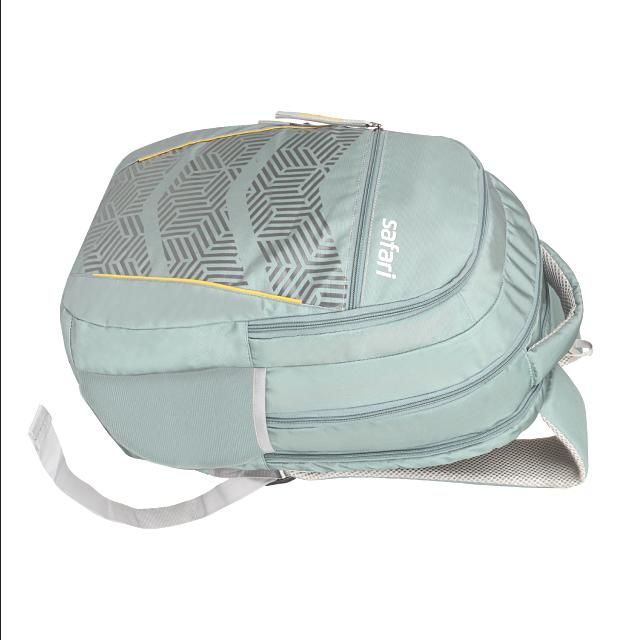backpack: (29, 111, 595, 531)
